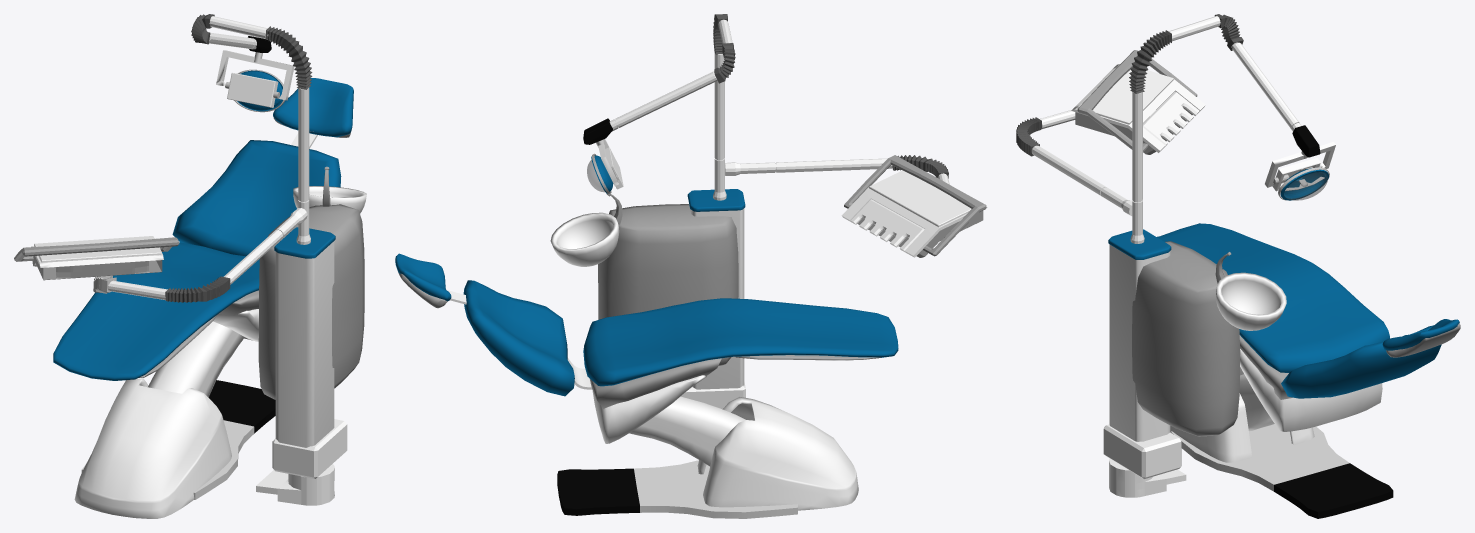
The model's file is Chair.fbx.
The picture shows the model from 3 angles, left to right: view 1: azimuth 30°, elevation 25°; view 2: azimuth 150°, elevation 25°; view 3: azimuth 270°, elevation 25°; orthographic projection. The views are drawn at different scales.
Parts seen in each view (by area): view 1: Holder, Base2, leg_cushion, Base (×2), body_cushion, Frame_holder, Main, head_cushion, base, Cover, rod3, rod2 (+11 smaller); view 2: Base (×2), leg_cushion, Base2, body_cushion, Cover, Holder, Frame_holder, Bowl1, center_frame, Main, center, rod2 (+3 smaller); view 3: Base (×2), leg_cushion, Holder, body_cushion, Cover, center_frame, Bowl1, Base2, Main, rod3, rod2, base (+13 smaller).
Part boxes in pixels (x1,y1,x2,y2): Holder: (256, 227, 347, 505); Base2: (74, 378, 231, 518); leg_cushion: (53, 242, 259, 380); Base (×2): (81, 204, 364, 499); body_cushion: (172, 140, 341, 256); Frame_holder: (148, 321, 244, 397); Main: (14, 237, 179, 280); head_cushion: (273, 78, 353, 137); base: (216, 50, 294, 107); Cover: (31, 236, 163, 267); rod3: (296, 88, 310, 244); rod2: (223, 208, 307, 284); Base (×2): (557, 204, 797, 518); leg_cushion: (583, 298, 898, 386); Base2: (697, 397, 858, 510); body_cushion: (463, 280, 574, 396); Cover: (841, 170, 987, 257); Holder: (680, 189, 745, 409); Frame_holder: (629, 396, 746, 466); Bowl1: (550, 212, 619, 266); center_frame: (592, 375, 706, 443); Main: (844, 155, 986, 257); center: (590, 358, 721, 408); rod2: (725, 158, 892, 175); Base (×2): (1132, 241, 1393, 518); leg_cushion: (1157, 223, 1389, 372); Holder: (1103, 229, 1186, 497); body_cushion: (1281, 325, 1441, 398); Cover: (1071, 64, 1205, 152); center_frame: (1240, 349, 1382, 431); Bowl1: (1215, 272, 1286, 330); Base2: (1170, 367, 1314, 462); Main: (1075, 50, 1197, 154); rod3: (1130, 92, 1144, 243); rod2: (1031, 145, 1132, 215); base: (1265, 142, 1335, 191).
Size of the model in its own units: 206 by 190 by 171.
